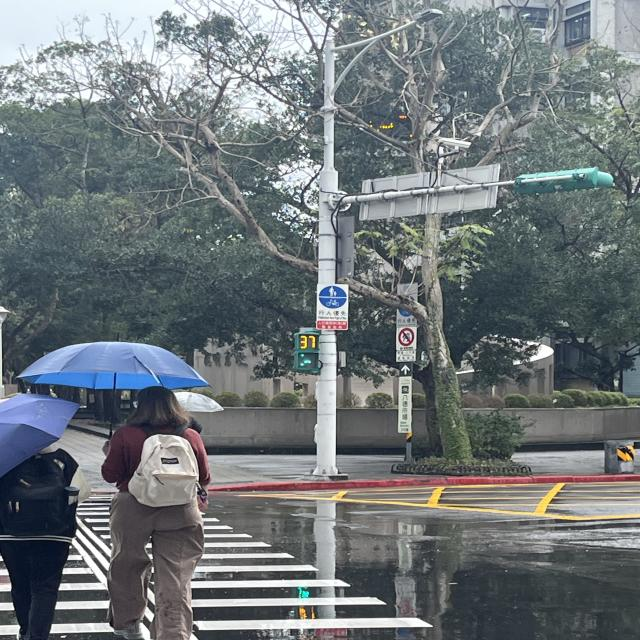green light: (294, 328, 320, 372)
